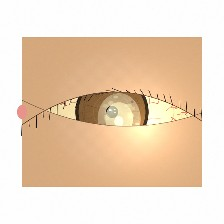corneal_ulcer: (92, 97, 146, 140)
